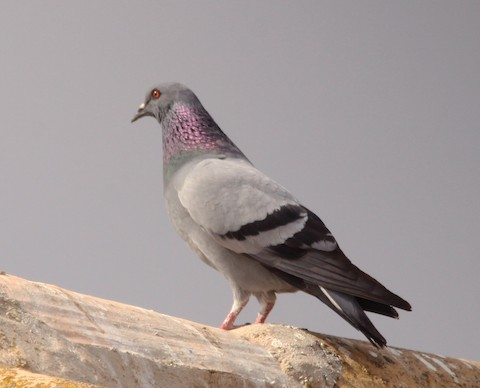pigeon: (132, 76, 416, 355)
